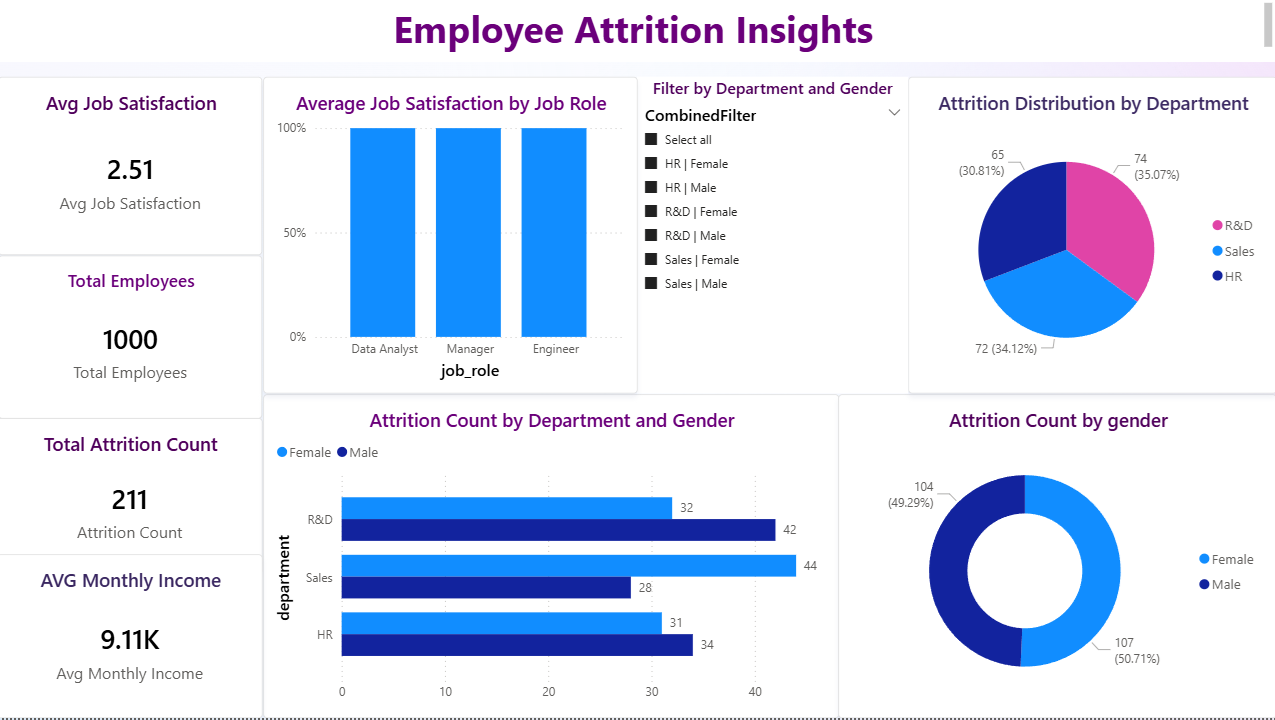

The page's visual inventory and layout, read from the dashboard file:
{"tool":"powerbi","page":{"name":"Page 1","canvas":[1280,720],"ordinal":0},"visuals":[{"type":"card","title":"Avg Job Satisfaction","fields":{"Values":["original_data.Avg Job Satisfaction"]},"box":[1.4,78.6,264.3,178.6],"z":0},{"type":"card","title":"Total Employees","fields":{"Values":["original_data.Total Employees"]},"box":[1.4,257.1,264.3,162.9],"z":1000},{"type":"card","title":"Total Attrition Count","fields":{"Values":["original_data.Attrition Count"]},"box":[0,420,265.7,155.7],"z":2000},{"type":"clusteredBarChart","title":"Attrition Count by Department and Gender","fields":{"Category":["original_data.department"],"Y":["original_data.Attrition Count"],"Series":["original_data.gender"]},"box":[265.7,395.7,575.7,324.3],"z":3000},{"type":"donutChart","fields":{"Y":["original_data.Attrition Count"],"Category":["original_data.gender"]},"box":[841.4,395.7,438.6,324.3],"z":3500},{"type":"pieChart","title":"Attrition Distribution by Department ","fields":{"Category":["original_data.department"],"Y":["original_data.Attrition Count"]},"box":[911.4,78.6,368.6,317.1],"z":4000},{"type":"slicer","title":"Filter by Department and Gender","fields":{"Values":["original_data.CombinedFilter"]},"box":[640,78.6,271.4,317.1],"z":5500},{"type":"card","title":"AVG Monthly Income","fields":{"Values":["original_data.Avg Monthly Income"]},"box":[0,555.7,265.7,164.3],"z":6000},{"type":"textbox","box":[0,0,1280,64.3],"z":7000},{"type":"hundredPercentStackedColumnChart","title":"Average Job Satisfaction by Job Role","fields":{"Category":["original_data.job_role"],"Y":["Sum(original_data.job_satisfaction)"]},"box":[265.7,78.6,374.3,317.1],"z":9000}]}

Visuals, with their boxes in screenshot pixels (x1, y1, x2, y2), scaled from the page's 1280x720 canvas onto the 1275x720 screenshot:
"Avg Job Satisfaction" card: Rect(1, 79, 265, 257)
"Total Employees" card: Rect(1, 257, 265, 420)
"Total Attrition Count" card: Rect(0, 420, 265, 576)
"Attrition Count by Department and Gender" clusteredBarChart: Rect(265, 396, 838, 719)
donutChart - original_data.Attrition Count x original_data.gender: Rect(838, 396, 1274, 719)
"Attrition Distribution by Department " pieChart: Rect(908, 79, 1274, 396)
"Filter by Department and Gender" slicer: Rect(638, 79, 908, 396)
"AVG Monthly Income" card: Rect(0, 556, 265, 719)
textbox: Rect(0, 0, 1274, 64)
"Average Job Satisfaction by Job Role" hundredPercentStackedColumnChart: Rect(265, 79, 638, 396)
